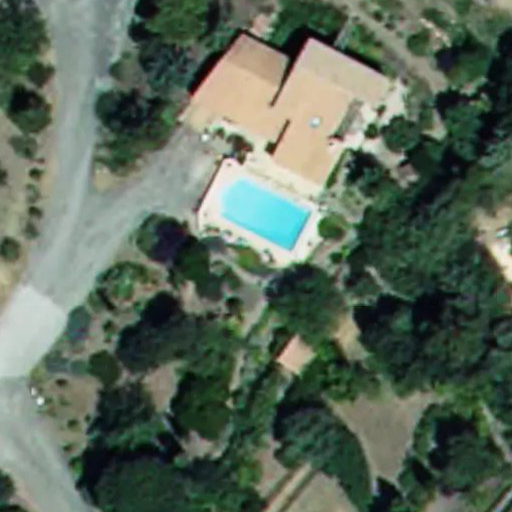pool: (201, 239, 310, 244)
